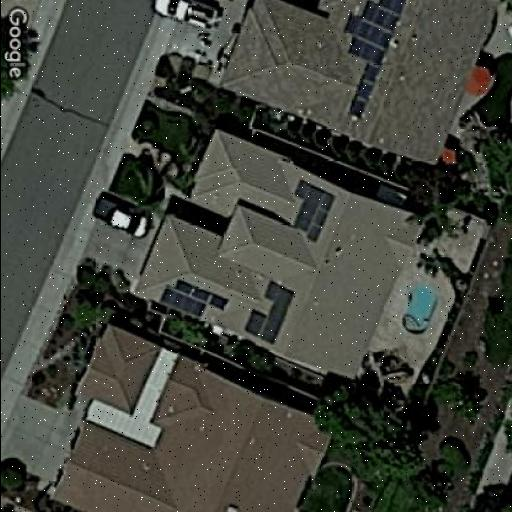solar-panel: (338, 0, 412, 127), (244, 280, 298, 345), (290, 176, 338, 244), (157, 277, 229, 319)
